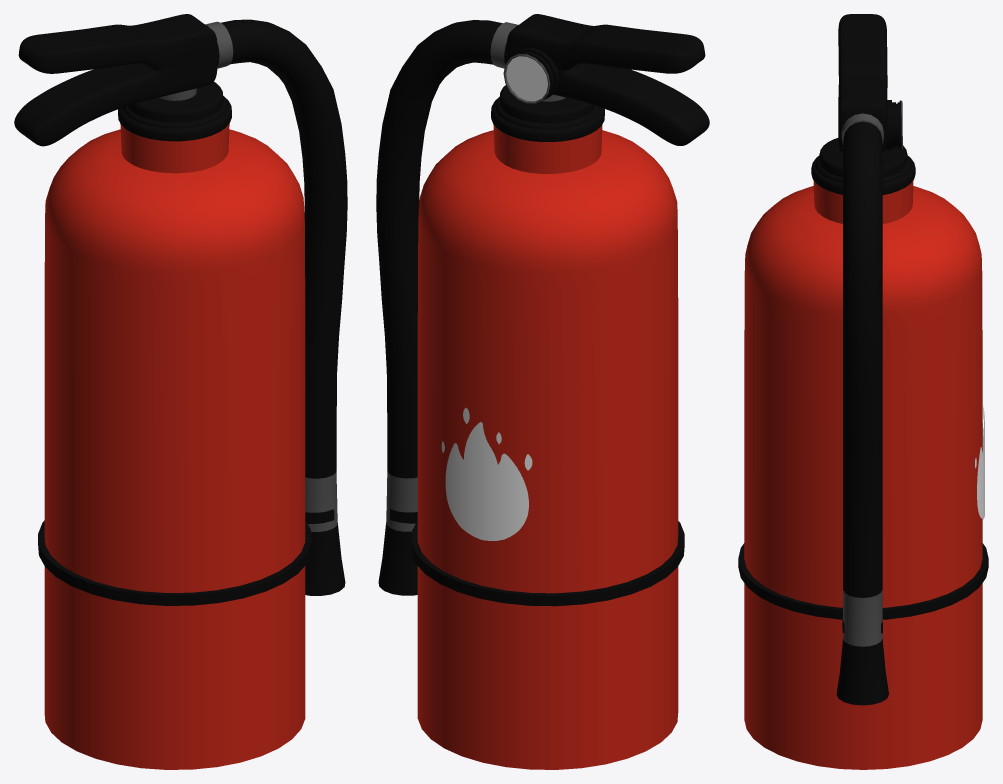
The model's file is fireextinguisher.obj.
3 renders of one model, left to right at view 1: azimuth 30°, elevation 25°; view 2: azimuth 150°, elevation 25°; view 3: azimuth 270°, elevation 25°, orthographic. The views are drawn at different scales.
Parts seen in each view (by area): view 1: Extinguisher_Base, Hose, Clip, Holder_for_Hose; view 2: Extinguisher_Base, Hose, Clip, Extinguisher_Base.001, Holder_for_Hose, Compass; view 3: Extinguisher_Base, Hose, Clip, Holder_for_Hose, Compass, Extinguisher_Base.001.
Boxes of the visible parts, left/top/right/bottom form: Extinguisher_Base: left=44, top=82, right=305, bottom=769; Hose: left=205, top=19, right=347, bottom=595; Clip: left=14, top=14, right=217, bottom=146; Holder_for_Hose: left=38, top=520, right=311, bottom=605; Extinguisher_Base: left=417, top=85, right=678, bottom=769; Hose: left=376, top=20, right=518, bottom=595; Clip: left=506, top=14, right=709, bottom=145; Extinguisher_Base.001: left=441, top=407, right=532, bottom=540; Holder_for_Hose: left=411, top=521, right=684, bottom=606; Compass: left=503, top=47, right=558, bottom=103; Extinguisher_Base: left=744, top=138, right=982, bottom=769; Hose: left=836, top=111, right=888, bottom=705; Clip: left=838, top=14, right=887, bottom=152; Holder_for_Hose: left=738, top=543, right=988, bottom=619; Compass: left=886, top=100, right=902, bottom=150; Extinguisher_Base.001: left=975, top=406, right=984, bottom=519.
Bounding box in the file's own units: 0.8188 × 1.71 × 0.6046.
